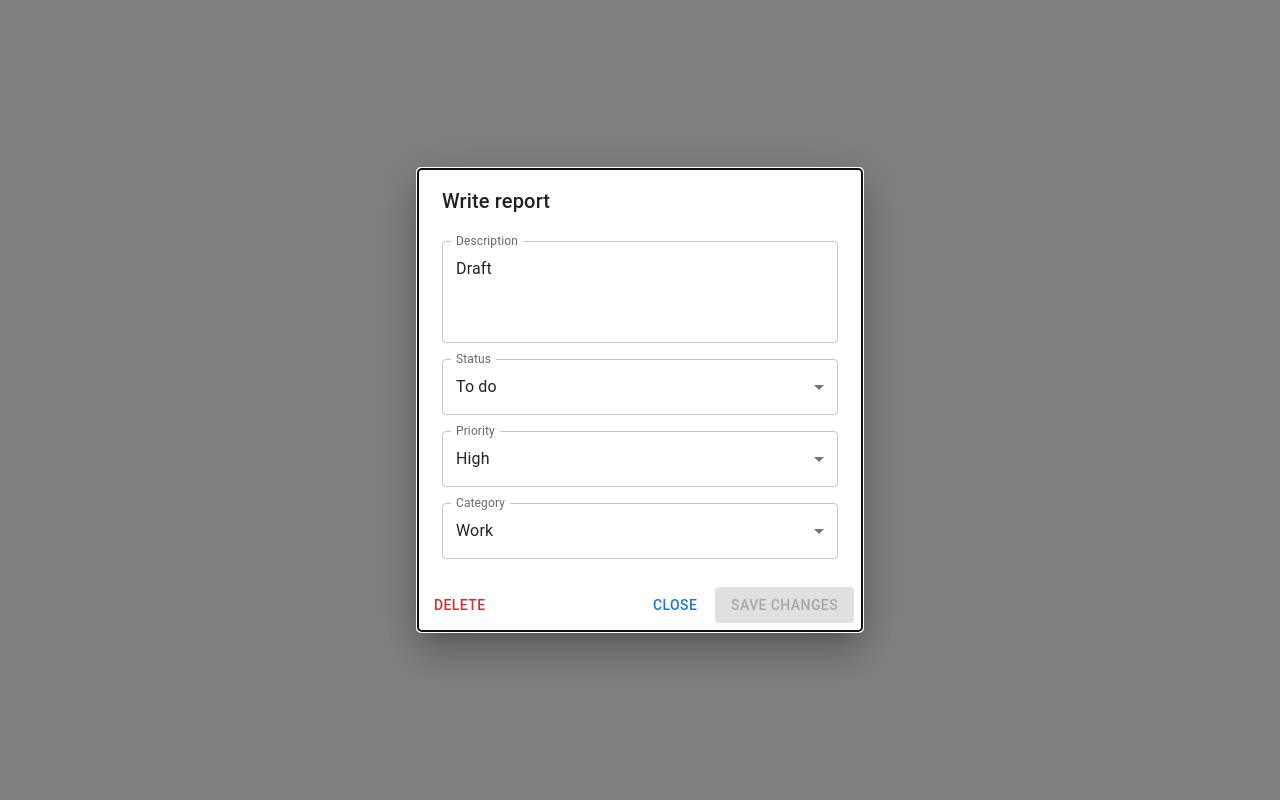
Test case: shows an error in the confirmation when the deletion fails
Click the button "Delete".
click(460, 605)  # box left=426, top=587, right=494, bottom=623
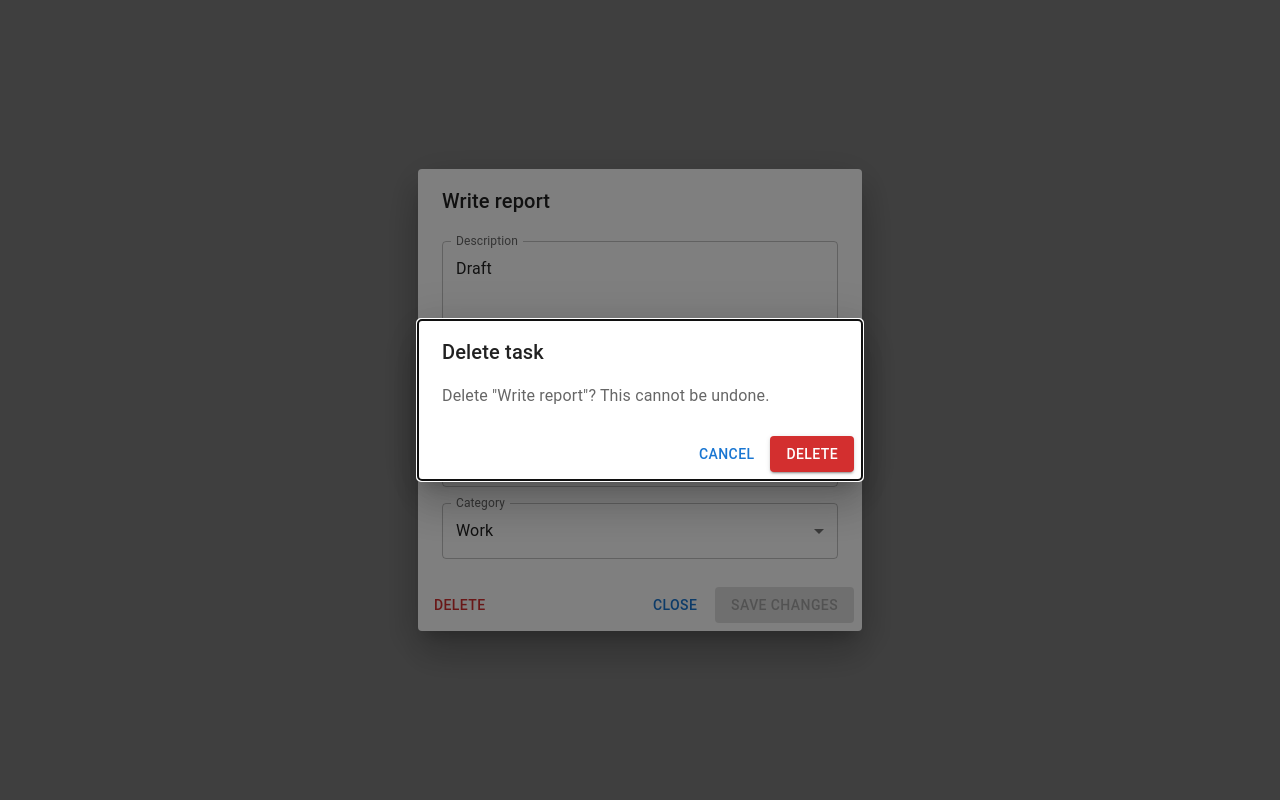
Click the button "Delete".
click(812, 454)  # box left=770, top=436, right=854, bottom=472
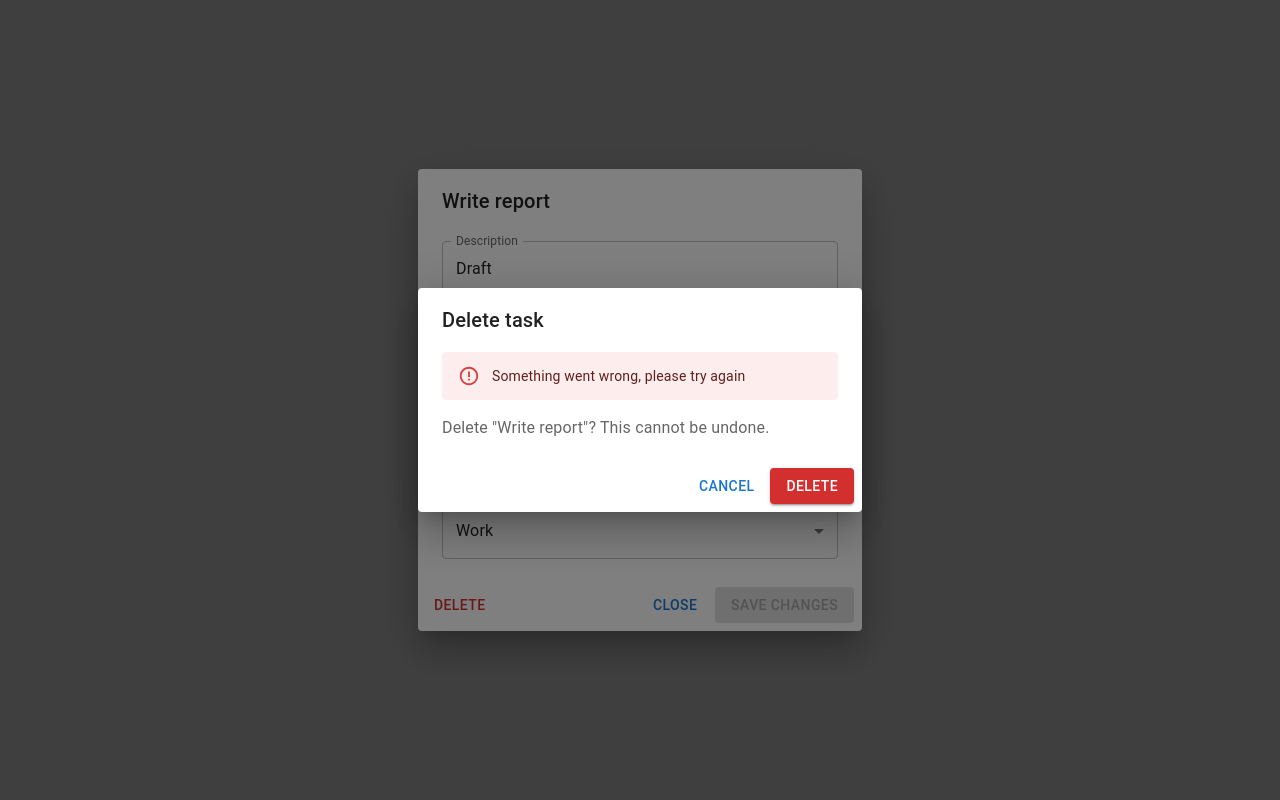
Expected: the message "Something went wrong, please try again" is shown, left=442, top=352, right=838, bottom=400
